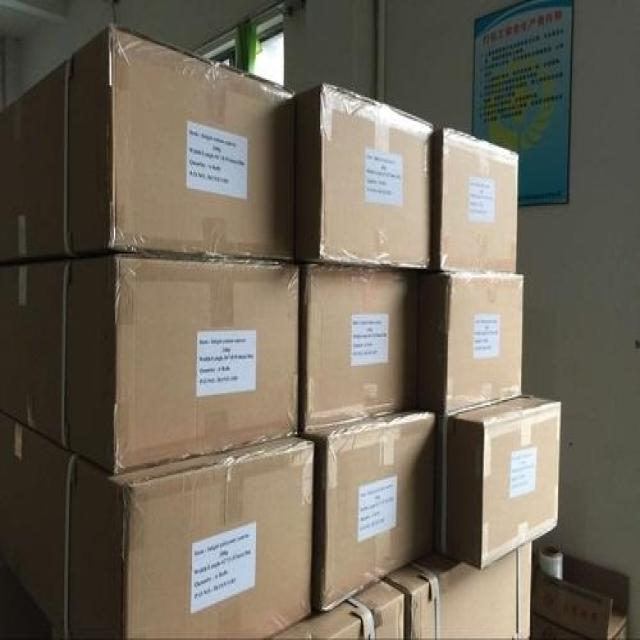box: (11, 24, 296, 262), (12, 420, 313, 638), (11, 252, 298, 475), (303, 404, 440, 615), (297, 83, 439, 267), (299, 262, 435, 432), (436, 393, 560, 571), (383, 540, 533, 638), (428, 272, 523, 414), (434, 125, 519, 273), (269, 580, 404, 638)
